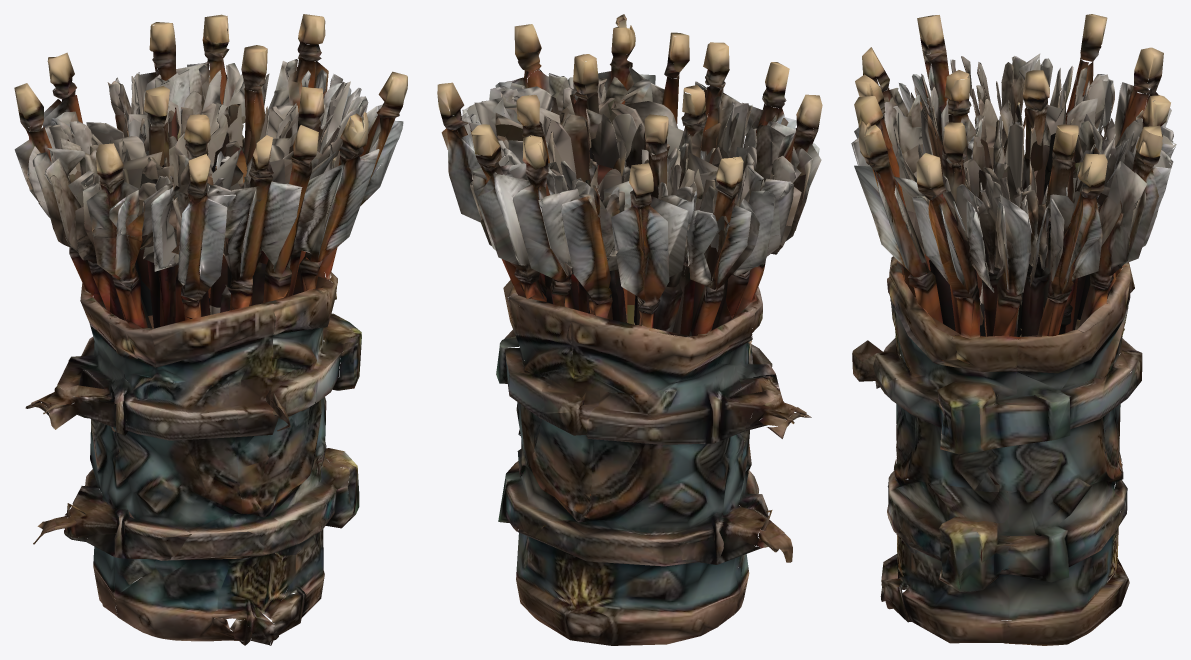
3 renders of one model, left to right at view 1: azimuth 30°, elevation 25°; view 2: azimuth 150°, elevation 25°; view 3: azimuth 270°, elevation 25°, orthographic.
Parts seen in each view (by area): view 1: tmpxbnihi3g.obj; view 2: tmpxbnihi3g.obj; view 3: tmpxbnihi3g.obj.
Boxes of the visible parts, x1,y1,x2,y2 form: tmpxbnihi3g.obj: (14, 14, 407, 645); tmpxbnihi3g.obj: (437, 14, 822, 645); tmpxbnihi3g.obj: (851, 14, 1176, 645).
Bounding box in the file's own units: 1.09 × 1.64 × 0.9172.
Materials: 1 (1 with a texture image).
